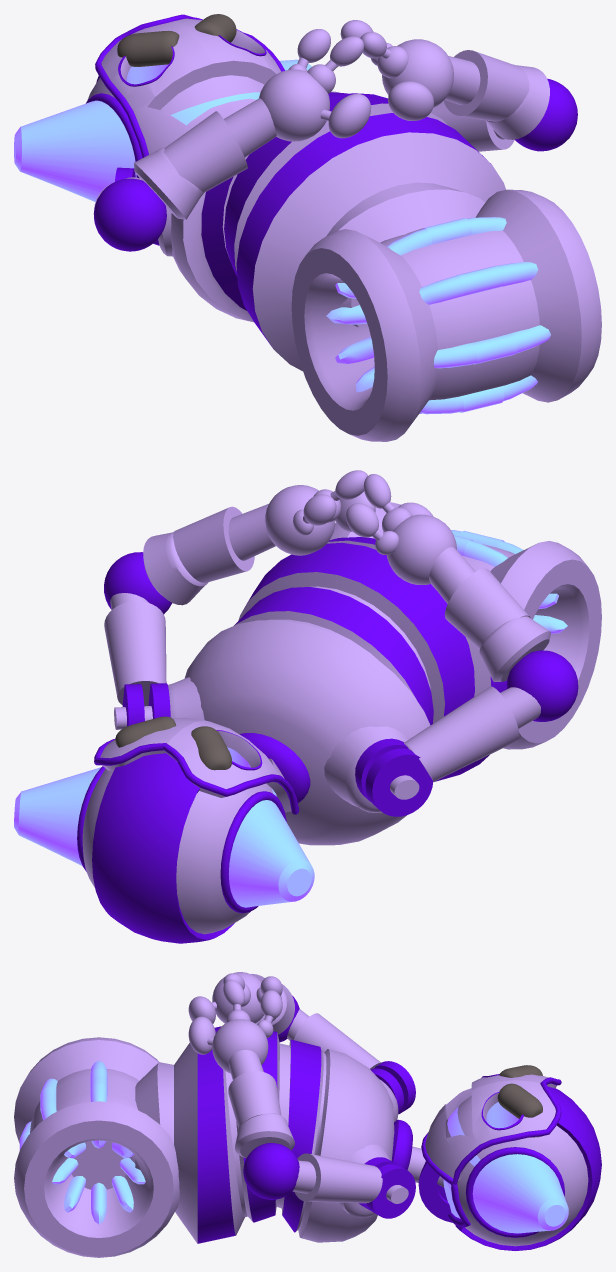
The model's file is Slow.fbx.
3 renders of one model, top to bottom at view 1: azimuth 30°, elevation 25°; view 2: azimuth 150°, elevation 25°; view 3: azimuth 270°, elevation 25°, orthographic. The views are drawn at different scales.
Parts seen in each view (by area): view 1: Wheel, Torso.003, Torso, Hands, Light, Bicep.002, Mask, MainHead.002, Ancle, Shoulders.002, MainHead, EyeBrow (+3 smaller); view 2: Torso, HeadTop, Bicep, Hands, MainHead.002, Bicep.002, Wheel, MainHead, Ancle, ShoulderRotation, Shoulders.002, Mask (+7 smaller); view 3: Wheel, Torso, Hands, Torso.003, MainHead.002, MainHead, Bicep, Mask, Light, HeadTop, ShoulderRotation, Bicep.002 (+10 smaller).
Boxes of the visible parts, x1,y1,x2,y2 form: Wheel: (291,189,601,441); Torso.003: (252,132,505,371); Torso: (170,91,490,346); Hands: (259,20,453,141); Light: (326,217,550,414); Bicep.002: (164,50,529,192); Mask: (101,18,281,154); MainHead.002: (14,59,311,201); Ancle: (93,78,577,251); Shoulders.002: (134,64,549,219); MainHead: (87,64,264,125); EyeBrow: (117,14,236,66); Torso: (184,537,507,845); HeadTop: (92,753,234,943); Bicep: (104,593,540,781); Hands: (265,470,456,584); MainHead.002: (14,767,314,907); Bicep.002: (172,504,530,648); Wheel: (329,502,601,749); MainHead: (82,747,277,934); Ancle: (104,552,578,721); ShoulderRotation: (122,683,433,816); Shoulders.002: (143,532,550,681); Mask: (100,717,291,812); Wheel: (14,1037,179,1257); Torso: (197,1026,394,1243); Hands: (188,972,282,1073); Torso.003: (135,1043,197,1243); MainHead.002: (472,1154,568,1233); MainHead: (445,1096,588,1246); Bicep: (287,1009,382,1203); Mask: (425,1074,556,1180); Light: (19,1061,145,1224); HeadTop: (455,1086,601,1250); ShoulderRotation: (359,1061,415,1218); Bicep.002: (228,974,281,1127).
Bounding box in the file's own units: 259 × 176 × 357.
